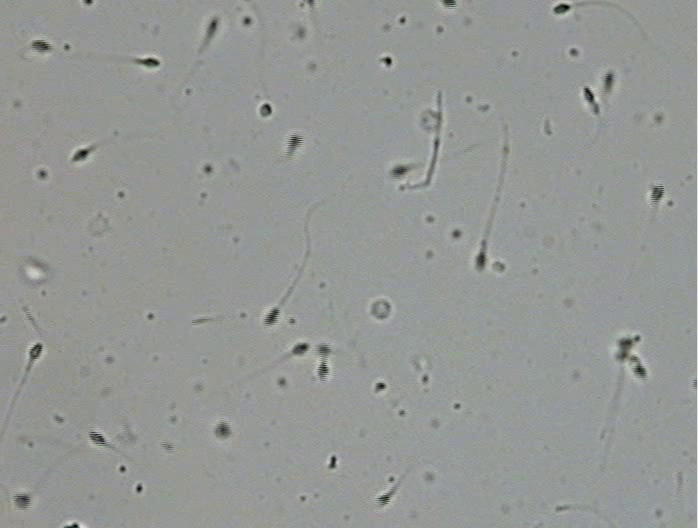Impurity: (370, 297, 392, 320)
S: (617, 338, 633, 361), (30, 39, 53, 54), (287, 133, 303, 154), (12, 493, 31, 510), (316, 361, 330, 383), (88, 431, 107, 447), (650, 184, 665, 204), (263, 308, 280, 325), (137, 57, 161, 68), (215, 422, 231, 438), (72, 149, 90, 162), (390, 165, 408, 178), (632, 364, 647, 379), (29, 343, 43, 359), (292, 342, 309, 355), (475, 251, 486, 271), (206, 20, 218, 37), (317, 344, 331, 358), (374, 494, 390, 506), (603, 72, 614, 89), (259, 103, 272, 117), (583, 86, 593, 104), (553, 4, 570, 14), (442, 1, 456, 9), (304, 1, 315, 6), (83, 1, 93, 5)
